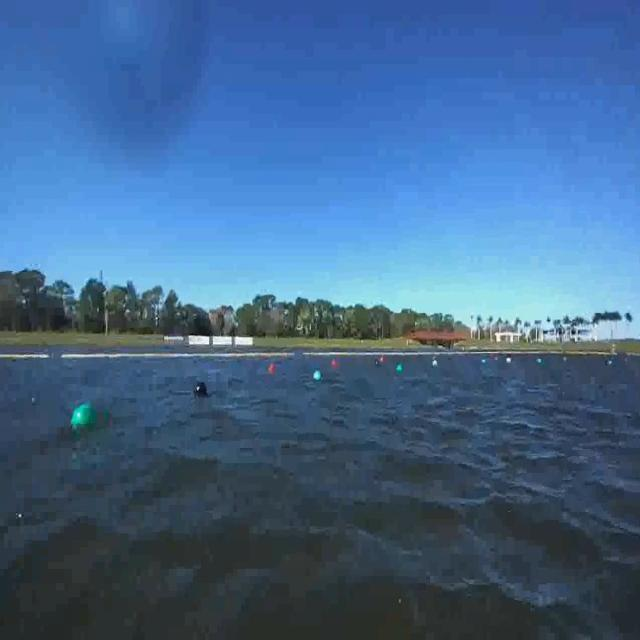black-buoy: (190, 371, 217, 407)
green-buoy: (72, 404, 95, 432), (314, 368, 322, 381)
red-buoy: (262, 348, 280, 384), (331, 356, 346, 376)
